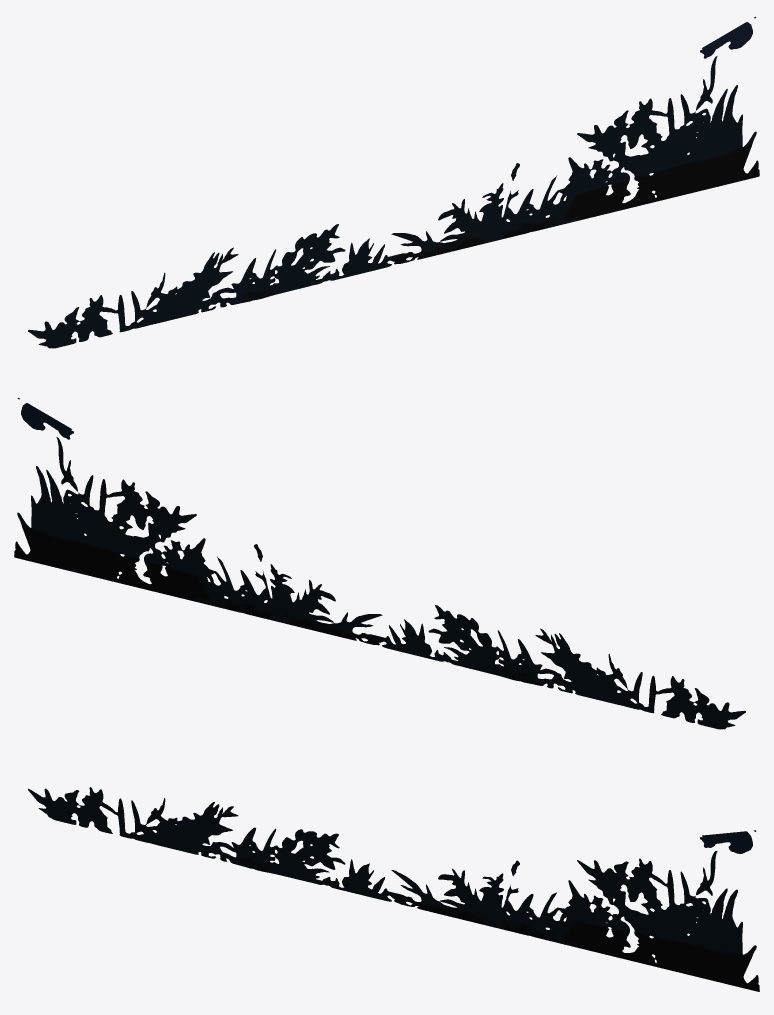
Rendered from HuBian_NightZhiwu4_fbx.FBX.
The picture shows the model from 3 angles, top to bottom: view 1: azimuth 30°, elevation 25°; view 2: azimuth 150°, elevation 25°; view 3: azimuth 330°, elevation 25°; orthographic projection.
Visible parts, largest first — view 1: Object032; view 2: Object032; view 3: Object032.
Part boxes in pixels (left/top/right/bottom): Object032: left=28, top=16, right=759, bottom=348; Object032: left=14, top=397, right=745, bottom=729; Object032: left=28, top=787, right=759, bottom=991.
Size of the model in its own units: 5.49 by 1.2 by 1.56e-06.
1 material, 1 textured.
